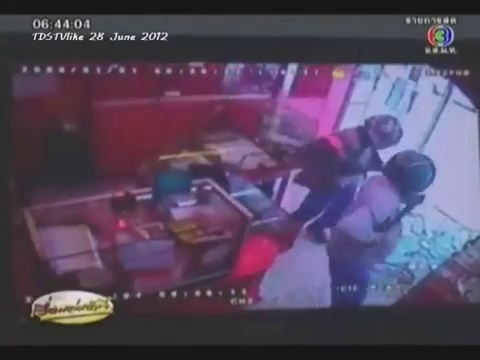helmet: (387, 152, 439, 192), (365, 108, 397, 149)
